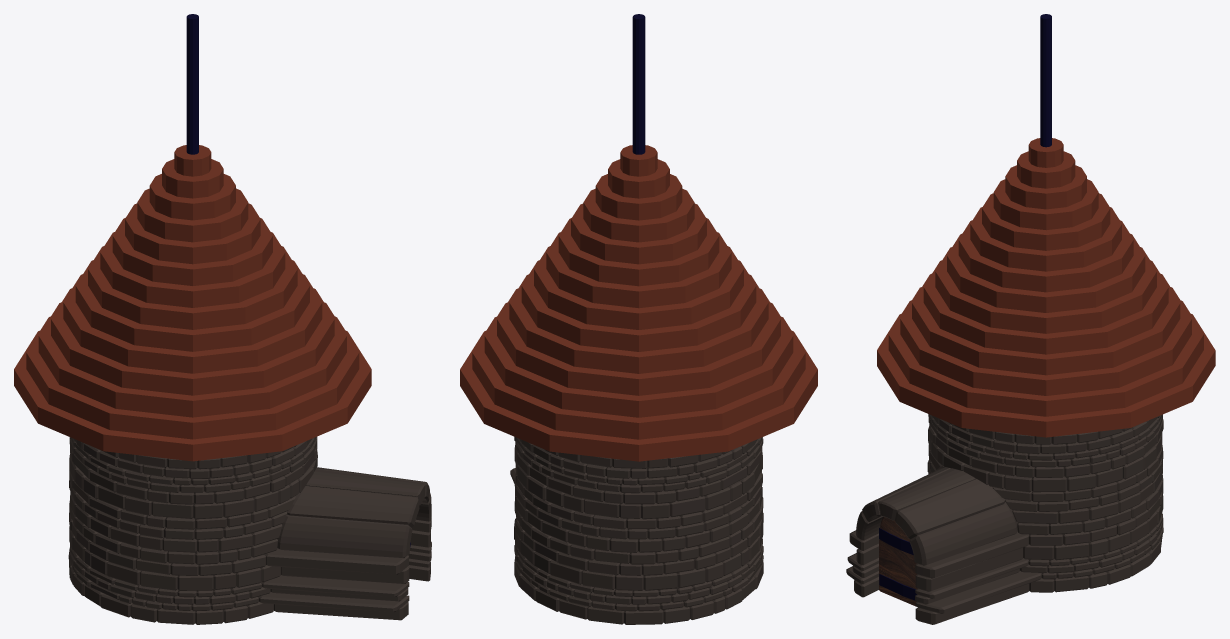
The model's file is Casa.Sigma_Textured.fbx.
3 renders of one model, left to right at view 1: azimuth 30°, elevation 25°; view 2: azimuth 150°, elevation 25°; view 3: azimuth 270°, elevation 25°, orthographic. The views are drawn at different scales.
Parts seen in each view (by area): view 1: Roof, Wall; view 2: Roof, Wall; view 3: Roof, Wall, Door.
Boxes of the visible parts, x1,y1,x2,y2 form: Roof: (14,14,371,461); Wall: (68,436,431,624); Roof: (460,14,817,461); Wall: (510,437,763,624); Roof: (877,14,1215,437); Wall: (846,414,1163,624); Door: (879,528,917,600).
Bounding box in the file's own units: 408 × 644 × 408.
4 materials, 1 textured.
